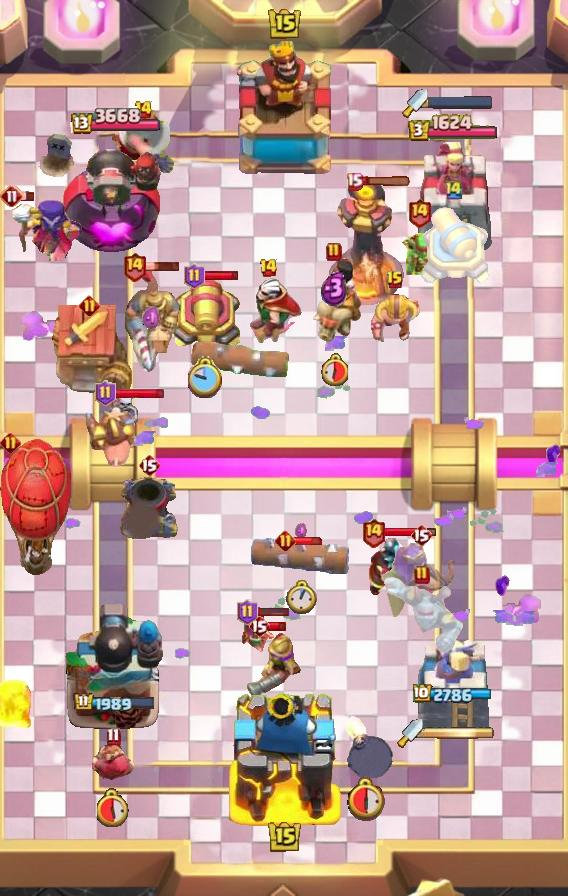axe: (0, 199, 84, 261)
baby-dragon: (342, 716, 394, 778)
bar: (412, 140, 494, 256), (416, 637, 490, 731)
barbarian-hut: (380, 539, 462, 623)
bomb-tower: (246, 631, 304, 701)
bowler: (89, 740, 137, 782)
cannon: (240, 613, 286, 657)
cannon-cart: (0, 439, 72, 579)
electro-dragon: (328, 179, 406, 305)
electro-spirit: (320, 270, 347, 306), (142, 305, 162, 331), (296, 523, 308, 539)
elite-barbarian: (306, 258, 362, 346)
elixir: (347, 775, 389, 821), (188, 356, 224, 398), (97, 789, 130, 828), (287, 581, 317, 616), (320, 353, 348, 386)
elixir-golem-small: (380, 574, 464, 652)
emote: (114, 387, 166, 400), (383, 526, 437, 538), (360, 176, 412, 188), (143, 260, 180, 272), (203, 271, 241, 282), (254, 607, 289, 618), (293, 536, 325, 546), (17, 190, 36, 202), (269, 621, 288, 632)
freeze: (83, 402, 139, 474)
giant-snowball: (398, 231, 440, 275)
goblin-giant: (368, 292, 422, 346)
heal-spirit: (108, 392, 138, 426)
king-tower: (226, 688, 342, 826), (228, 41, 340, 181)
king-tower-bar: (423, 726, 495, 740), (428, 95, 492, 108)
lumberjack: (365, 538, 411, 598)
minion: (250, 538, 352, 574), (190, 342, 290, 378)
monk: (110, 109, 176, 175)
musketeer: (118, 474, 180, 542)
ram-rider: (121, 267, 183, 375)
royal-recruit: (415, 201, 493, 291), (170, 278, 242, 352)
selected: (68, 108, 160, 137), (407, 113, 499, 142), (72, 692, 155, 714), (414, 684, 495, 705)
skeleton-king: (231, 276, 305, 344)
sparky: (46, 304, 132, 402)
text: (408, 196, 433, 227), (121, 251, 146, 281), (362, 517, 387, 547), (0, 184, 24, 208), (183, 263, 204, 289), (96, 380, 117, 406), (238, 599, 259, 625), (138, 453, 160, 477), (410, 523, 432, 547), (248, 614, 270, 638), (80, 295, 101, 317), (275, 530, 296, 551), (444, 180, 464, 201), (0, 432, 20, 453), (134, 100, 154, 120), (258, 258, 278, 278), (386, 270, 404, 290), (326, 242, 342, 262), (414, 565, 430, 585), (345, 173, 362, 191), (106, 727, 121, 746)
tower-bar: (64, 601, 164, 731), (62, 138, 166, 256)
valkyrie: (0, 674, 36, 732)
